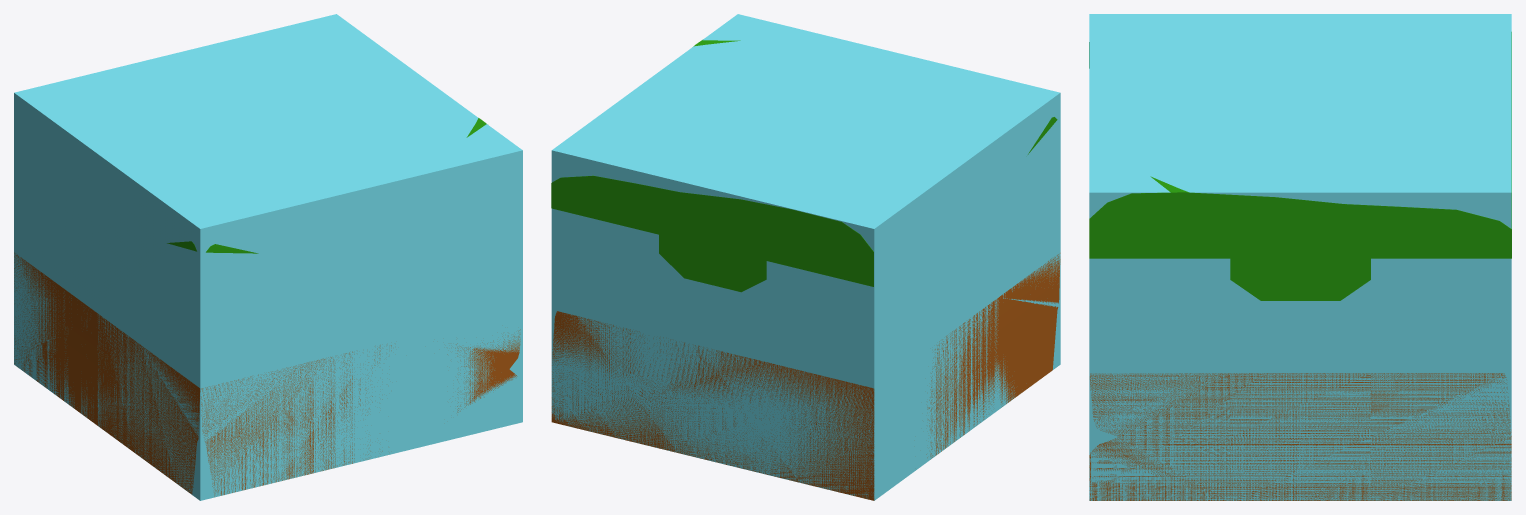
Rendered from PBOX33_Grass_01.FBX.
3 renders of one model, left to right at view 1: azimuth 30°, elevation 25°; view 2: azimuth 150°, elevation 25°; view 3: azimuth 270°, elevation 25°, orthographic. The views are drawn at different scales.
Parts seen in each view (by area): view 1: PBOX33_Grass_01, PBOX33_SUB_TAB_MUD_01, PBOX33_SUB_Grass_01; view 2: PBOX33_Grass_01, PBOX33_SUB_TAB_MUD_01, PBOX33_SUB_Grass_01; view 3: PBOX33_Grass_01, PBOX33_SUB_TAB_MUD_01, PBOX33_SUB_Grass_01.
Part boxes in pixels (bbox=[...]): PBOX33_Grass_01: bbox=[14, 14, 522, 500]; PBOX33_SUB_TAB_MUD_01: bbox=[14, 252, 520, 496]; PBOX33_SUB_Grass_01: bbox=[167, 118, 486, 253]; PBOX33_Grass_01: bbox=[551, 14, 1060, 500]; PBOX33_SUB_TAB_MUD_01: bbox=[551, 253, 1060, 500]; PBOX33_SUB_Grass_01: bbox=[551, 40, 1057, 292]; PBOX33_Grass_01: bbox=[1089, 14, 1511, 500]; PBOX33_SUB_TAB_MUD_01: bbox=[1089, 373, 1511, 500]; PBOX33_SUB_Grass_01: bbox=[1089, 32, 1511, 300].
Size of the model in its own units: 18.02 by 14.51 by 18.02.
